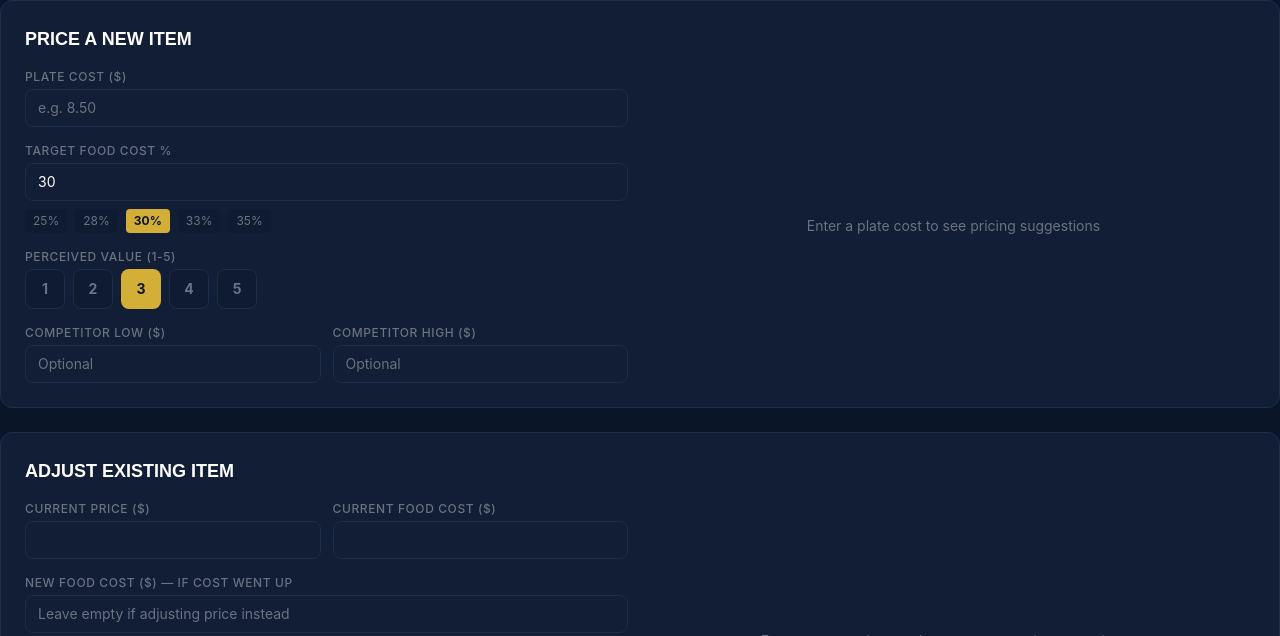
Test: PricingCalculator › ForwardCalculator › perceived value buttons update selection
Step 1. Type "9" into the number field with placeholder "e.g. 8.50" → x=326, y=108, box top-left (25, 89), bottom-right (628, 127)
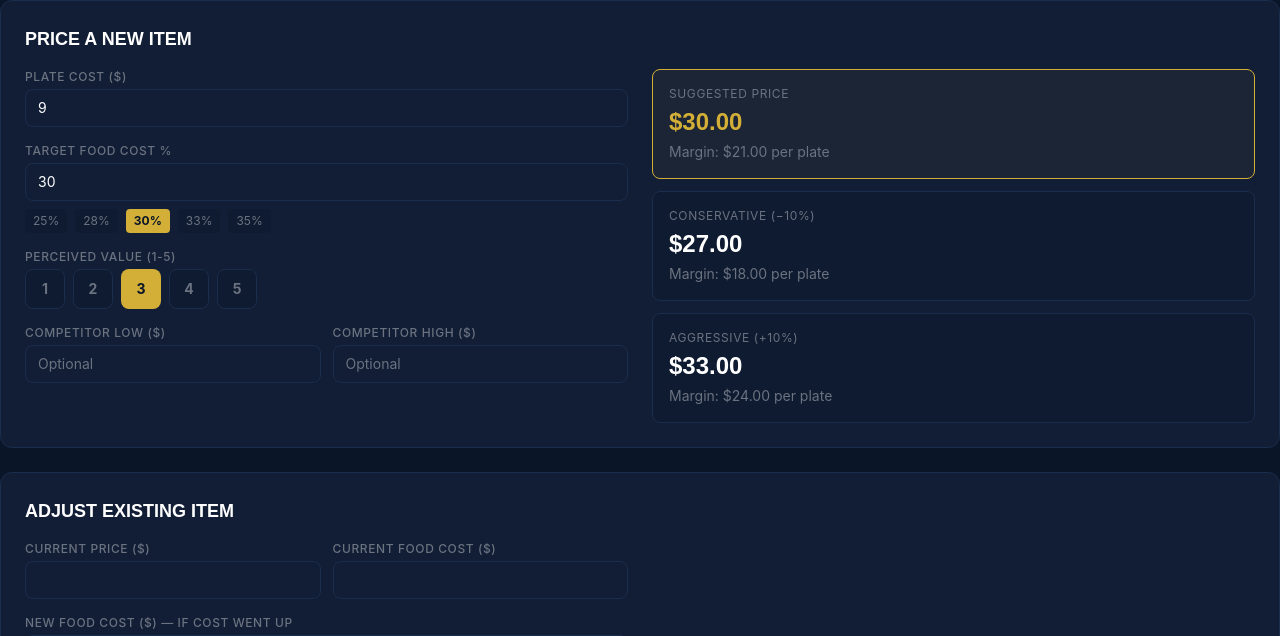
Note: Click PV 5
Step 2. Click the button "5" → x=237, y=289, box top-left (217, 269), bottom-right (257, 309)
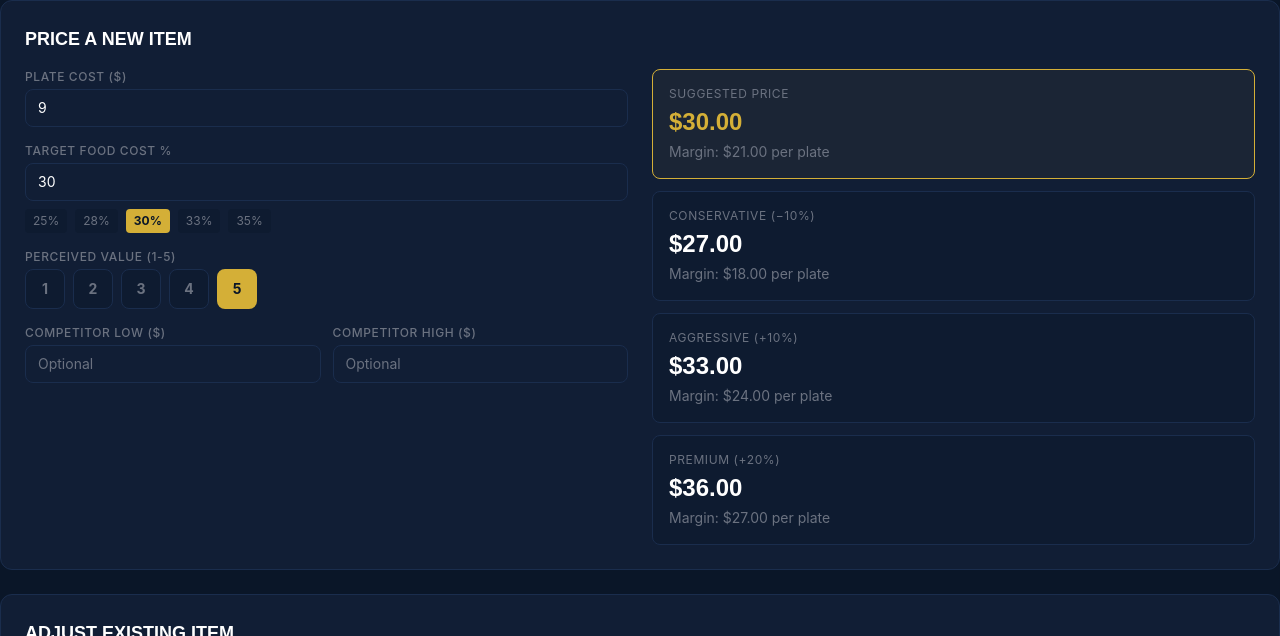
Expected: the text "Premium (+20%)" is shown, top-left (669, 452), bottom-right (780, 467)
Note: Click PV 2
Step 3. Click the button "2" → x=93, y=289, box top-left (73, 269), bottom-right (113, 309)
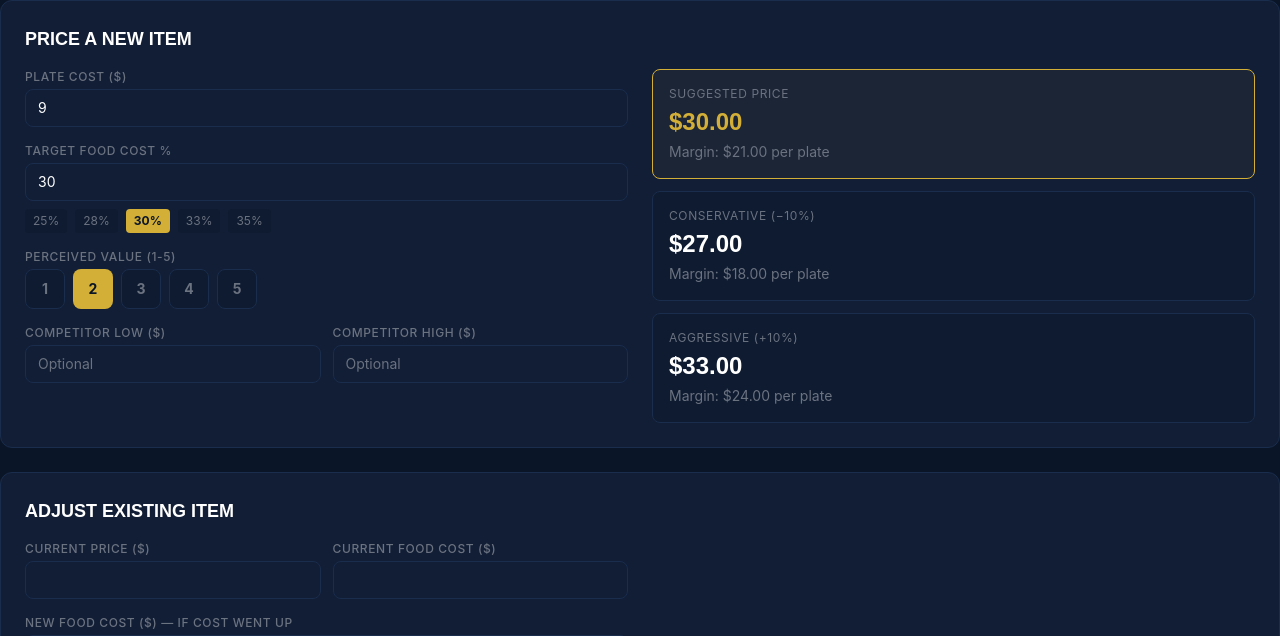
Expected: the text "Premium (+20%)" is gone
